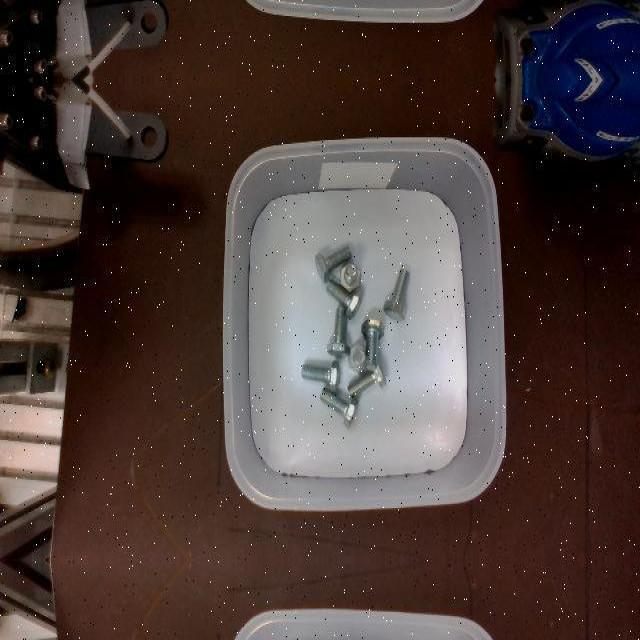screw: (319, 387, 359, 427), (325, 278, 361, 320), (383, 268, 411, 320), (314, 245, 352, 283), (326, 306, 350, 358), (301, 359, 341, 389), (361, 318, 384, 370), (340, 263, 361, 293)
